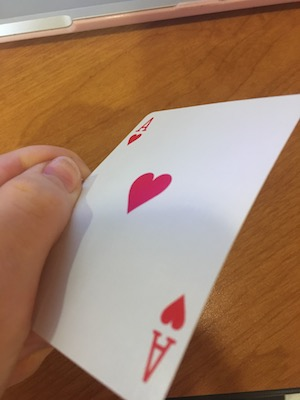AceOfHearts: (49, 96, 300, 398)
